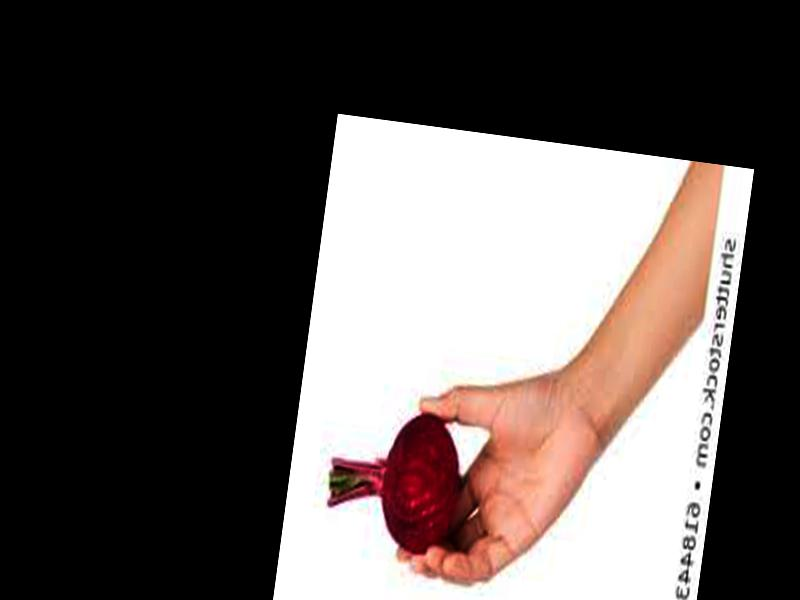Beet: (320, 403, 466, 561)
